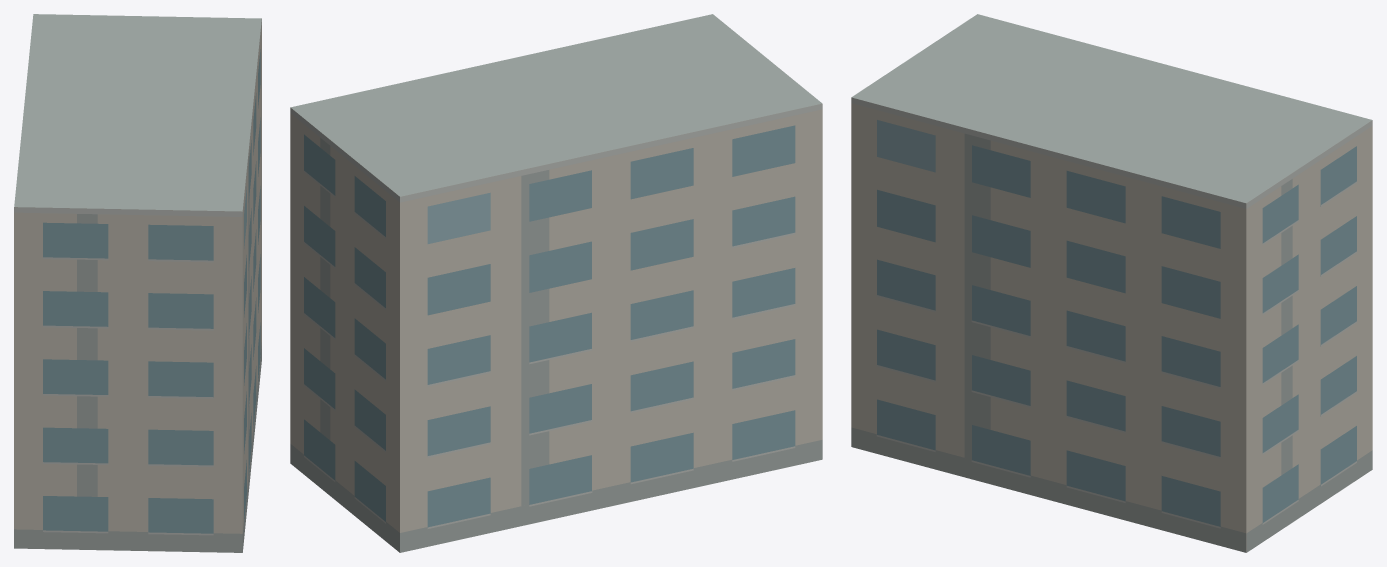
The model's file is survey-upis-32925793.glb.
3 views of the same model, side by side, from view 1: azimuth 30°, elevation 25°; view 2: azimuth 150°, elevation 25°; view 3: azimuth 270°, elevation 25° (orthographic). The views are drawn at different scales.
Parts seen in each view (by area): view 1: survey-upis-32925793.tmp; view 2: survey-upis-32925793.tmp; view 3: survey-upis-32925793.tmp.
Part boxes in pixels (x1=…): survey-upis-32925793.tmp: x1=14, y1=14, x2=261, y2=552; survey-upis-32925793.tmp: x1=290, y1=14, x2=822, y2=552; survey-upis-32925793.tmp: x1=851, y1=14, x2=1372, y2=552.
Size of the model in its own units: 17.32 by 14.9 by 20.15.
